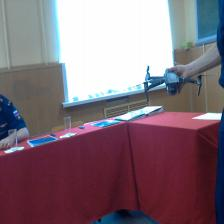drone: (140, 60, 208, 96)
